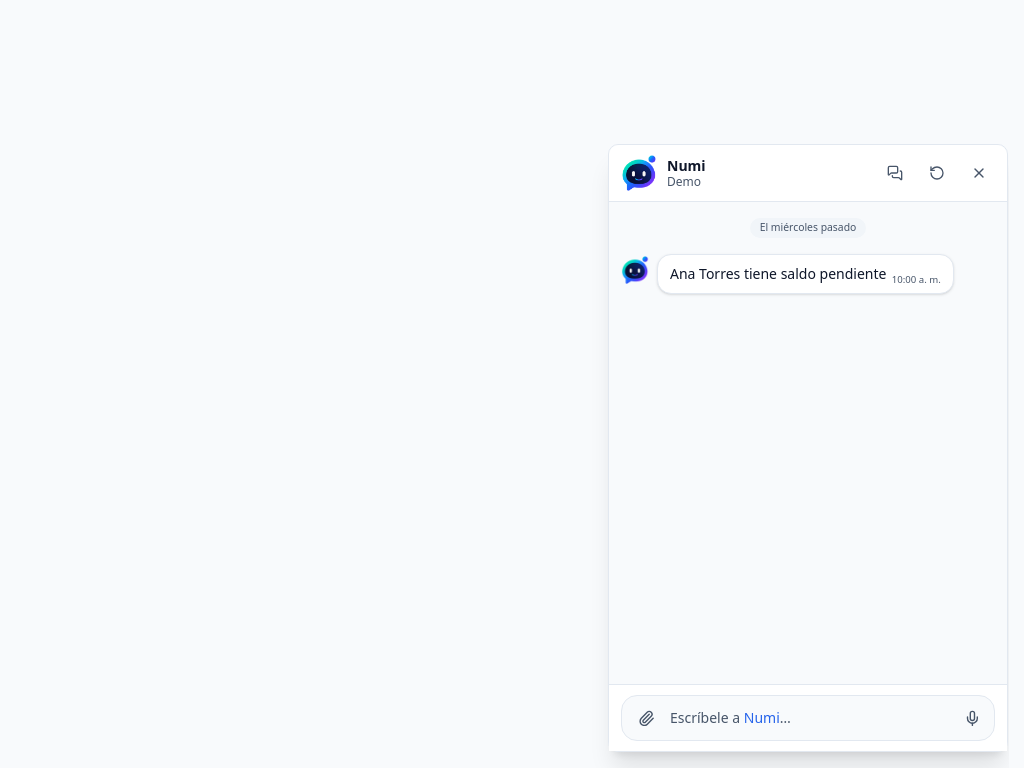
mantener pulsado selecciona el mensaje y saca sus acciones arriba
The width and height of the screenshot is (1024, 768).
Press the mouse on the text "Ana Torres tiene saldo pendiente": [778, 273] box [670,264,886,283]
Wait 600 ms
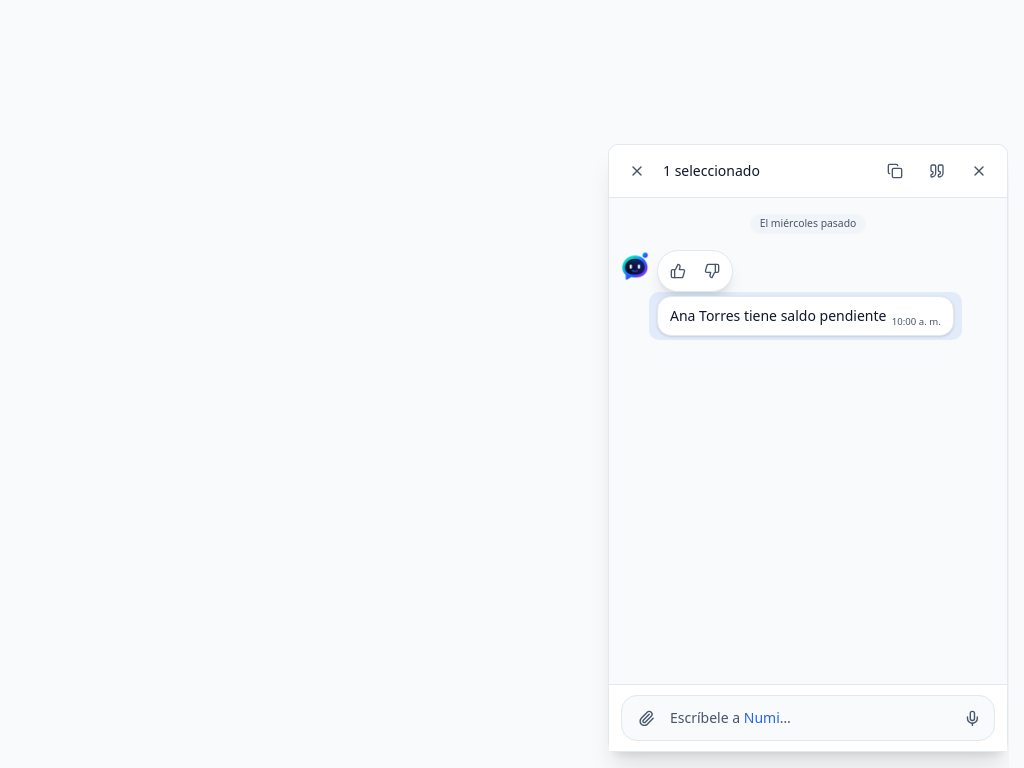
Expected: the text "1 seleccionado" is shown, [663,161,760,180]
Expected: the button named "Copiar mensaje" is shown, [879,155,911,187]
Expected: the button named "Citar mensaje" is shown, [921,155,953,187]
